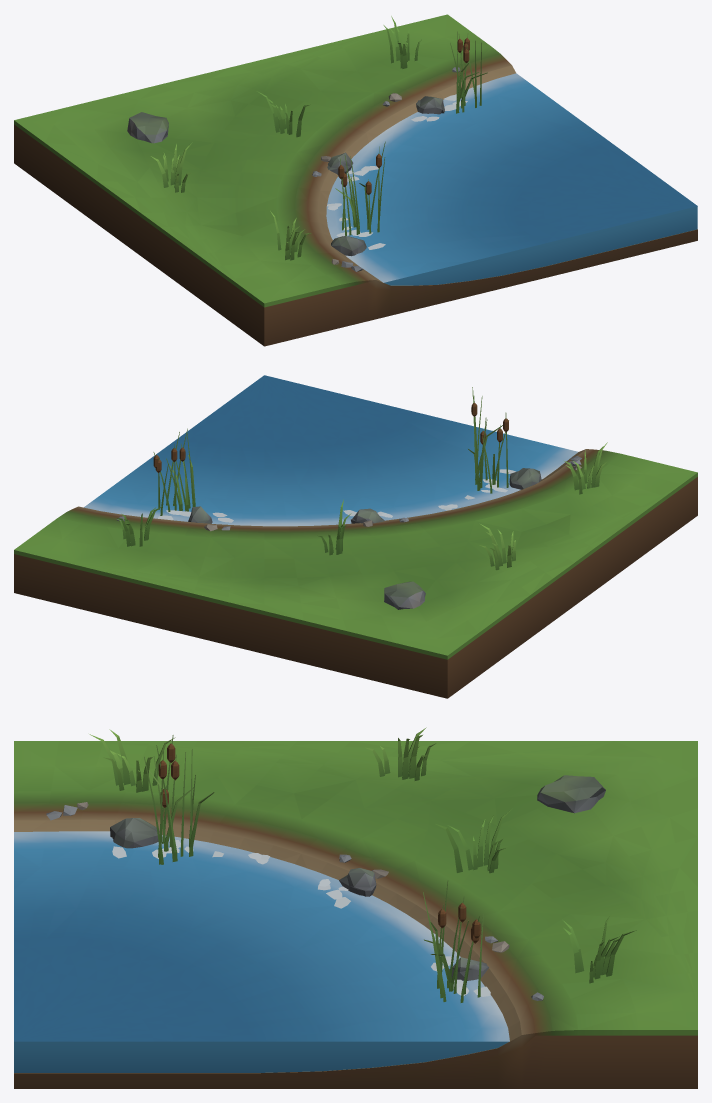
File: lake-shore-corner-in.glb
3 renders of one model, top to bottom at view 1: azimuth 30°, elevation 25°; view 2: azimuth 150°, elevation 25°; view 3: azimuth 270°, elevation 25°, orthographic. The views are drawn at different scales.
Visible parts, largest first — view 1: lake_shore_corner_in; view 2: lake_shore_corner_in; view 3: lake_shore_corner_in.
Boxes of the visible parts, x1,y1,x2,y2 form: lake_shore_corner_in: [14, 14, 697, 346]; lake_shore_corner_in: [14, 375, 697, 698]; lake_shore_corner_in: [14, 727, 697, 1088].
Size of the model in its own units: 4 by 1.1 by 4.
